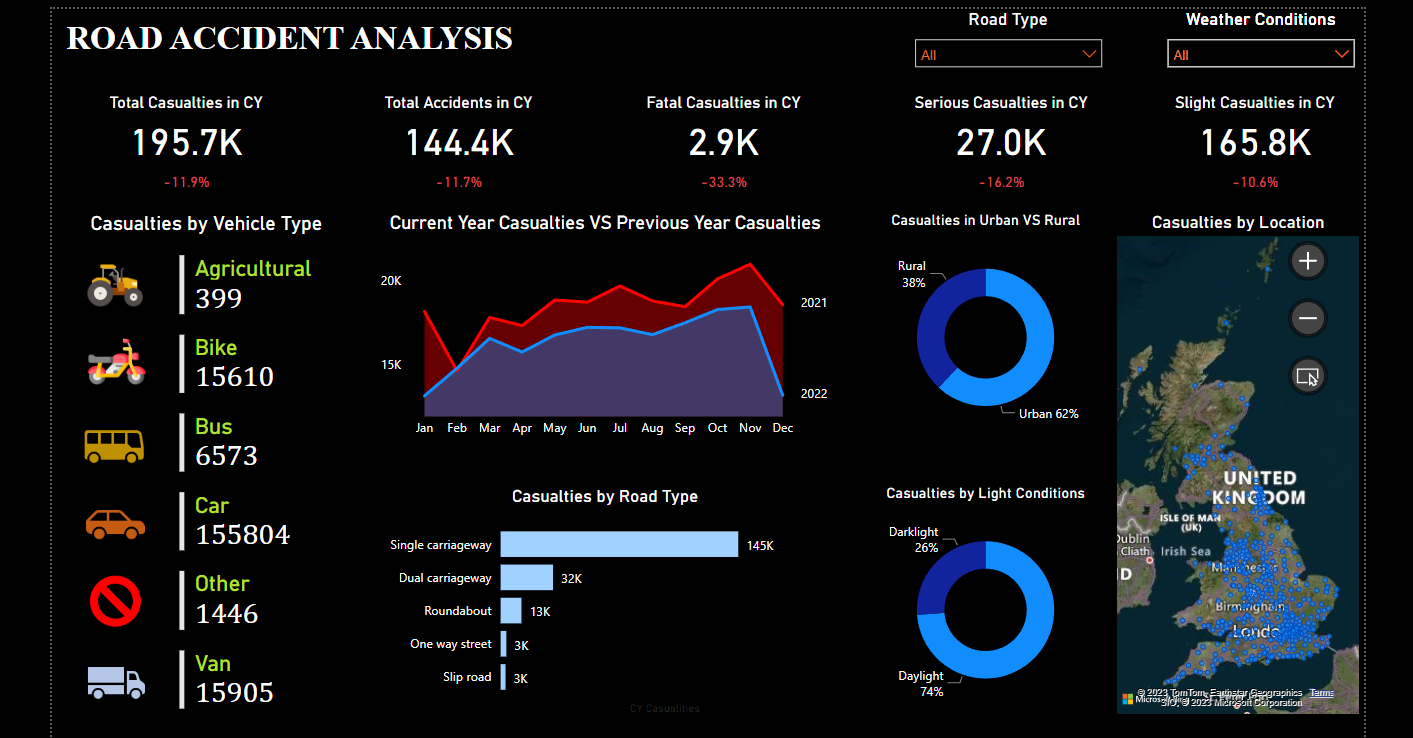

Layout of this report page (visuals, bound fields, positions):
{"tool":"powerbi","page":{"name":"Page 1","canvas":[1280,720],"ordinal":0},"visuals":[{"type":"card","title":"Total Accidents in CY","fields":{"Values":["Calendar1.CY accidents"]},"box":[289,81.7,215.1,73.3],"z":0,"group":"g2"},{"type":"card","title":"Fatal Casualties in CY","fields":{"Values":["Calendar1.CY Casualities"]},"box":[547.6,81.7,215.1,73.3],"z":0,"group":"g3"},{"type":"group","id":"g1","title":"Group 1","box":[22.9,82.3,215.6,99],"z":0},{"type":"card","title":"Total Casualties in CY","fields":{"Values":["Calendar1.CY Casualities"]},"box":[22.9,82.3,215.1,73.3],"z":0,"group":"g1"},{"type":"card","title":"Serious Casualties in CY","fields":{"Values":["Calendar1.CY Casualities"]},"box":[817.7,82.3,215.1,73.3],"z":0,"group":"g4"},{"type":"card","title":"Slight Casualties in CY","fields":{"Values":["Calendar1.CY Casualities"]},"box":[1065.6,82.3,215.1,73.3],"z":0,"group":"g5"},{"type":"image","box":[25.6,311,75.6,65.9],"z":0,"group":"g6"},{"type":"group","id":"g2","title":"Group 2","box":[289,81.7,215.9,100],"z":1000},{"type":"card","fields":{"Values":["Calendar1.Percentage2"]},"box":[361.1,155,72.1,25.6],"z":1000,"group":"g2"},{"type":"card","fields":{"Values":["Calendar1.Measure 2"]},"box":[619.7,155,72.1,25.6],"z":1000,"group":"g3"},{"type":"card","fields":{"Values":["Calendar1.Measure 2"]},"box":[95,155.6,72.1,25.6],"z":1000,"group":"g1"},{"type":"card","fields":{"Values":["Calendar1.Measure 2"]},"box":[889.8,155.6,72.1,25.6],"z":1000,"group":"g4"},{"type":"card","fields":{"Values":["Calendar1.Measure 2"]},"box":[1137.7,155.6,72.1,25.6],"z":1000,"group":"g5"},{"type":"image","box":[25.6,235.4,72,67.1],"z":1000,"group":"g6"},{"type":"group","id":"g3","title":"Group 1","box":[547.6,81.7,215.9,100],"z":2000},{"type":"image","box":[24.4,389.1,72,75.6],"z":2000,"group":"g6"},{"type":"group","id":"g4","title":"Group 1","box":[817.7,82.3,215.6,99],"z":3000},{"type":"image","box":[25.6,464.7,72,76.8],"z":3000,"group":"g6"},{"type":"group","id":"g5","title":"Group 1","box":[1065.6,82.3,214.6,99],"z":4000},{"type":"image","box":[25.6,541.5,72,72],"z":4000,"group":"g6"},{"type":"multiRowCard","fields":{"Values":["Data.Vehicle_Type (groups)","Calendar1.CY Casualities"]},"box":[119.5,235.4,148.8,472],"z":5000},{"type":"image","box":[24.4,622,76.8,70.7],"z":5000,"group":"g6"},{"type":"group","id":"g6","title":"Group 3","box":[24.4,235.4,76.8,457.3],"z":6000},{"type":"textbox","box":[23.2,197.6,254.9,37.8],"z":7000},{"type":"areaChart","title":"Current Year Casualties VS Previous Year Casualties","fields":{"Category":["Calendar1.Month"],"Y":["Sum(Data.Number_of_Casualties)"],"Series":["Calendar1.Date.Variation.Date Hierarchy.Year"]},"box":[315.9,197.6,447.6,229.3],"z":8000},{"type":"donutChart","title":"Casualties in Urban VS Rural","fields":{"Y":["Calendar1.CY Casualities"],"Category":["Data.Urban_or_Rural_Area"]},"box":[797.6,197.6,226.8,229.3],"z":9000},{"type":"donutChart","title":"Casualties by Light Conditions","fields":{"Y":["Calendar1.CY Casualities"],"Category":["Data.Light_Conditions (groups) 2"]},"box":[797.6,463.4,226.8,229.3],"z":10000},{"type":"barChart","title":"Casualties by Road Type","fields":{"Y":["Calendar1.CY Casualities"],"Category":["Data.Road_Type"]},"box":[315.9,464.6,447.6,228],"z":11000},{"type":"map","title":"Casualties by Location","fields":{"Y":["Data.Latitude"],"X":["Data.Longitude"],"Category":["Data.Local_Authority_(District)"]},"box":[1034.1,197.6,246.3,495.1],"z":11001},{"type":"textbox","box":[0,9.8,463.4,52.4],"z":11002},{"type":"slicer","title":"Weather Conditions","fields":{"Values":["Data.Weather_Conditions (groups)"]},"box":[1078,0,202.4,62.2],"z":11003},{"type":"slicer","title":"Weather Conditions","fields":{"Values":["Data.Weather_Conditions (groups)"]},"box":[1077.6,0,202.4,62.2],"z":11004},{"type":"slicer","title":"Road Type ","fields":{"Values":["Data.Road_Surface_Conditions (groups)"]},"box":[831.7,0,202.4,62.2],"z":11005}]}

Visuals, with their boxes on the page's 1280x720 design canvas (x1, y1, x2, y2). These are canvas units, not pixel positions in the 1413x738 screenshot, which may show the page scaled, cropped or inside an application window:
"Total Accidents in CY" card: (left=289, top=82, right=504, bottom=155)
"Fatal Casualties in CY" card: (left=548, top=82, right=763, bottom=155)
"Group 1" group: (left=23, top=82, right=238, bottom=181)
"Total Casualties in CY" card: (left=23, top=82, right=238, bottom=156)
"Serious Casualties in CY" card: (left=818, top=82, right=1033, bottom=156)
"Slight Casualties in CY" card: (left=1066, top=82, right=1281, bottom=156)
image: (left=26, top=311, right=101, bottom=377)
"Group 2" group: (left=289, top=82, right=505, bottom=182)
card - Calendar1.Percentage2: (left=361, top=155, right=433, bottom=181)
card - Calendar1.Measure 2: (left=620, top=155, right=692, bottom=181)
card - Calendar1.Measure 2: (left=95, top=156, right=167, bottom=181)
card - Calendar1.Measure 2: (left=890, top=156, right=962, bottom=181)
card - Calendar1.Measure 2: (left=1138, top=156, right=1210, bottom=181)
image: (left=26, top=235, right=98, bottom=302)
"Group 1" group: (left=548, top=82, right=764, bottom=182)
image: (left=24, top=389, right=96, bottom=465)
"Group 1" group: (left=818, top=82, right=1033, bottom=181)
image: (left=26, top=465, right=98, bottom=542)
"Group 1" group: (left=1066, top=82, right=1280, bottom=181)
image: (left=26, top=542, right=98, bottom=614)
multiRowCard - Data.Vehicle_Type (groups) x Calendar1.CY Casualities: (left=120, top=235, right=268, bottom=707)
image: (left=24, top=622, right=101, bottom=693)
"Group 3" group: (left=24, top=235, right=101, bottom=693)
textbox: (left=23, top=198, right=278, bottom=235)
"Current Year Casualties VS Previous Year Casualties" areaChart: (left=316, top=198, right=764, bottom=427)
"Casualties in Urban VS Rural" donutChart: (left=798, top=198, right=1024, bottom=427)
"Casualties by Light Conditions" donutChart: (left=798, top=463, right=1024, bottom=693)
"Casualties by Road Type" barChart: (left=316, top=465, right=764, bottom=693)
"Casualties by Location" map: (left=1034, top=198, right=1280, bottom=693)
textbox: (left=0, top=10, right=463, bottom=62)
"Weather Conditions" slicer: (left=1078, top=0, right=1280, bottom=62)
"Weather Conditions" slicer: (left=1078, top=0, right=1280, bottom=62)
"Road Type " slicer: (left=832, top=0, right=1034, bottom=62)
